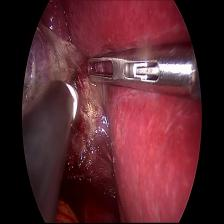Grasper: (86, 40, 200, 111)
Hook: (59, 75, 84, 125)
